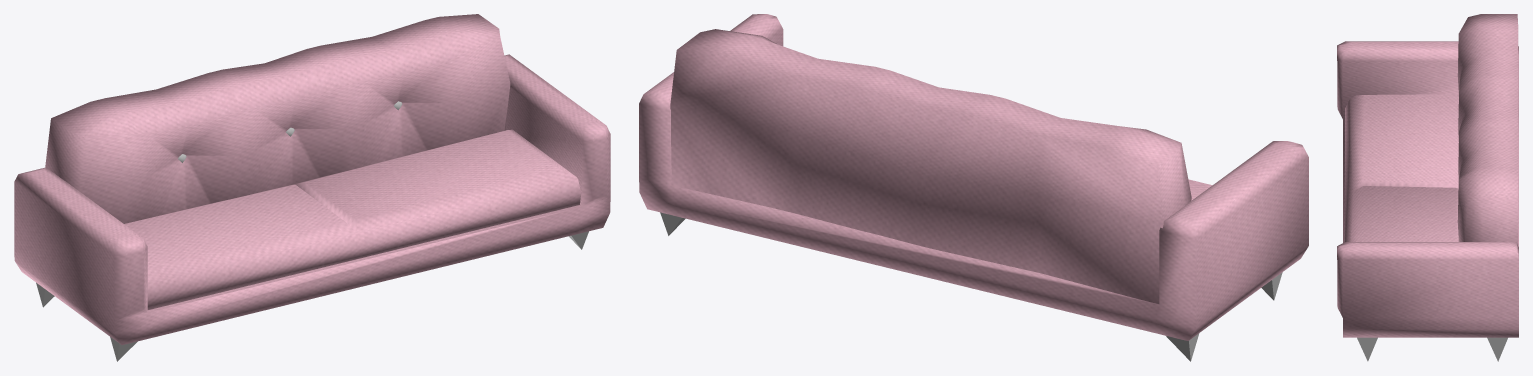
File: Sofa_E_3.FBX
3 views of the same model, side by side, from view 1: azimuth 30°, elevation 25°; view 2: azimuth 150°, elevation 25°; view 3: azimuth 270°, elevation 25° (orthographic). The views are drawn at different scales.
Visible parts, largest first — view 1: Sofa; view 2: Sofa; view 3: Sofa.
Boxes of the visible parts, x1,y1,x2,y2 form: Sofa: [14, 14, 610, 361]; Sofa: [639, 14, 1308, 361]; Sofa: [1337, 14, 1518, 361].
Bounding box in the file's own units: 468 × 168 × 169.
